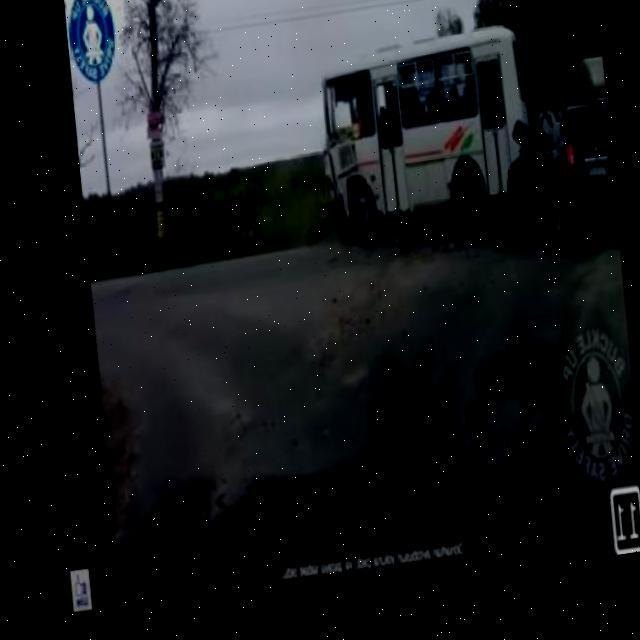Car Accident Detector - v4 Generation1 Exported: (301, 19, 624, 294)
